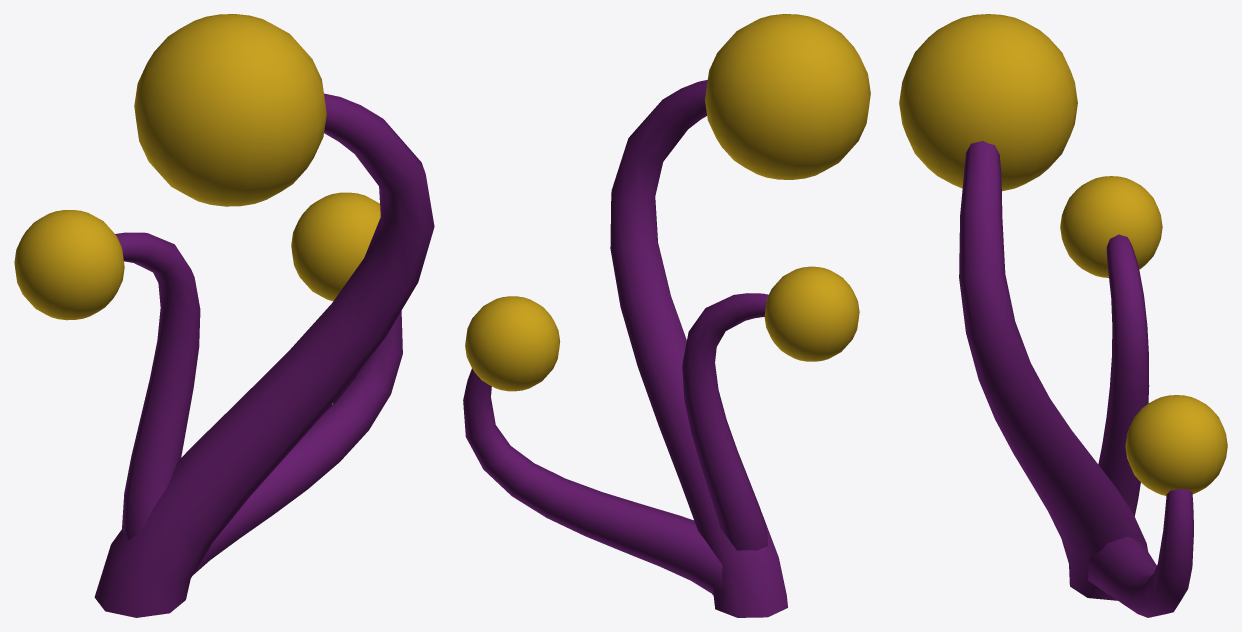
The model's file is Tree_Light_1.glb.
3 renders of one model, left to right at view 1: azimuth 30°, elevation 25°; view 2: azimuth 150°, elevation 25°; view 3: azimuth 270°, elevation 25°, orthographic. The views are drawn at different scales.
Parts seen in each view (by area): view 1: Tree_Light_1; view 2: Tree_Light_1; view 3: Tree_Light_1.
Boxes of the visible parts, <box> form: Tree_Light_1: <box>14,14,434,617</box>; Tree_Light_1: <box>463,14,870,617</box>; Tree_Light_1: <box>899,14,1227,617</box>.
Size of the model in its own units: 2.63 by 3.76 by 1.96.
1 material, 1 textured.
